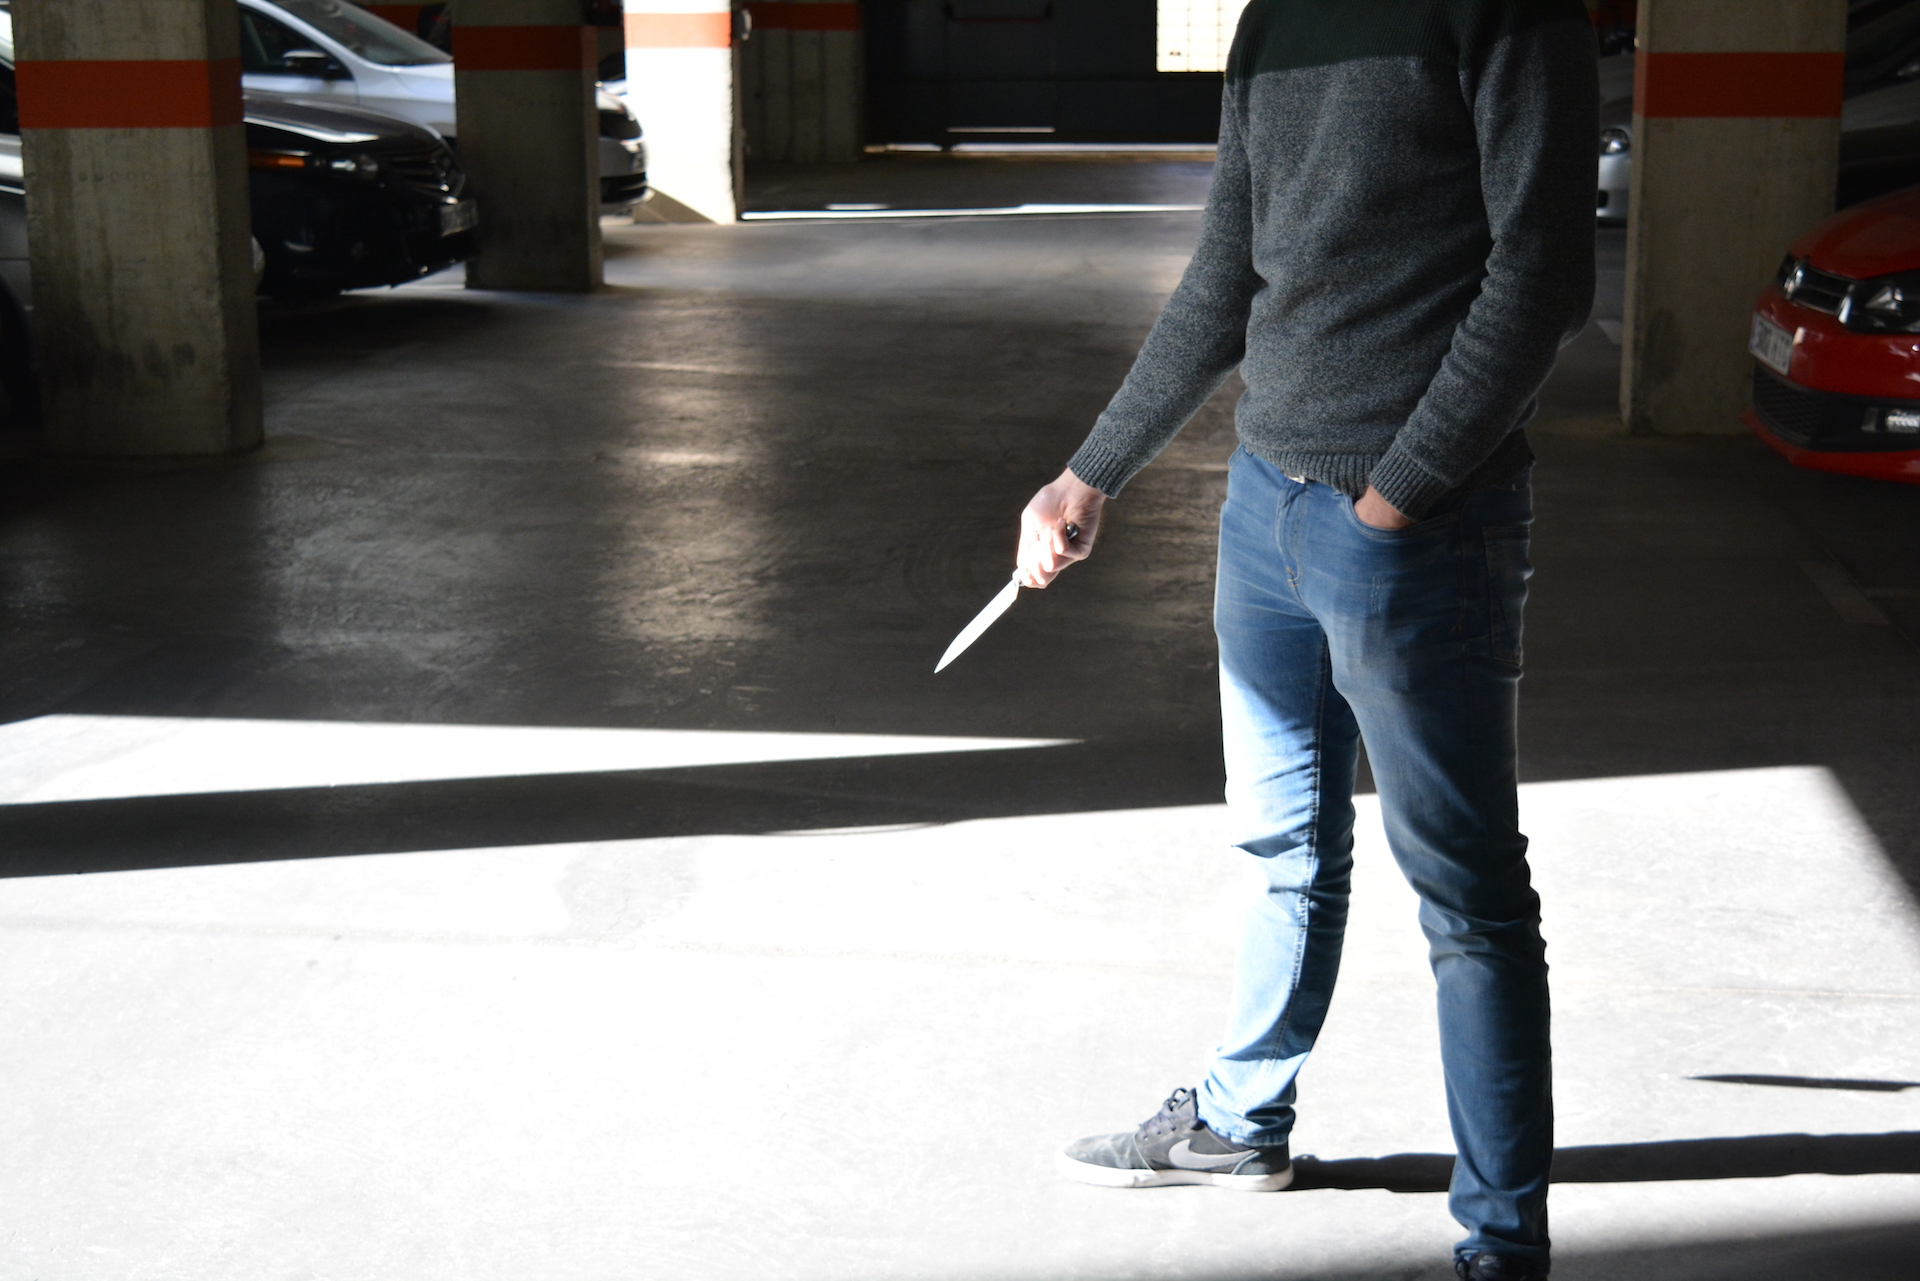knife: (922, 518, 1084, 683)
